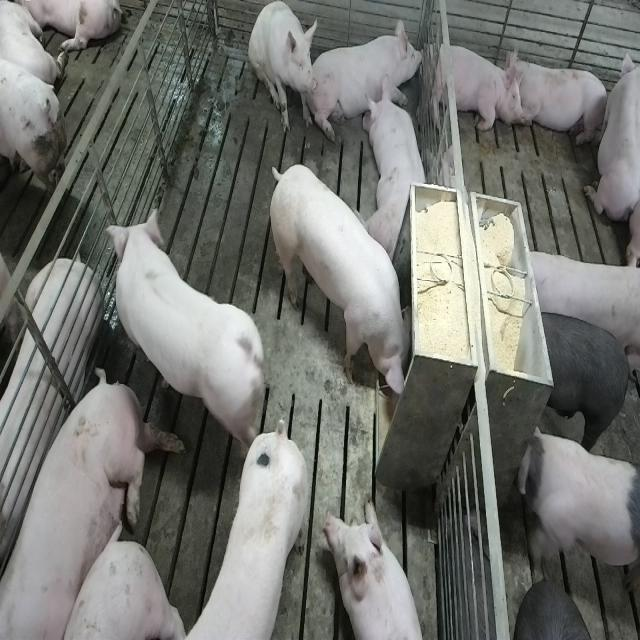Feeding: (272, 162, 420, 402)
Lateral_lying: (0, 369, 179, 640), (0, 252, 101, 579)
Sitting: (248, 2, 318, 136)
Standing: (103, 199, 264, 472), (166, 423, 316, 640), (516, 420, 638, 588), (518, 246, 637, 380), (538, 304, 632, 448), (516, 576, 599, 638)
Sternal_lying: (315, 13, 425, 140), (330, 503, 430, 640), (366, 80, 430, 258), (583, 40, 637, 229), (508, 51, 610, 149), (425, 36, 519, 135)
